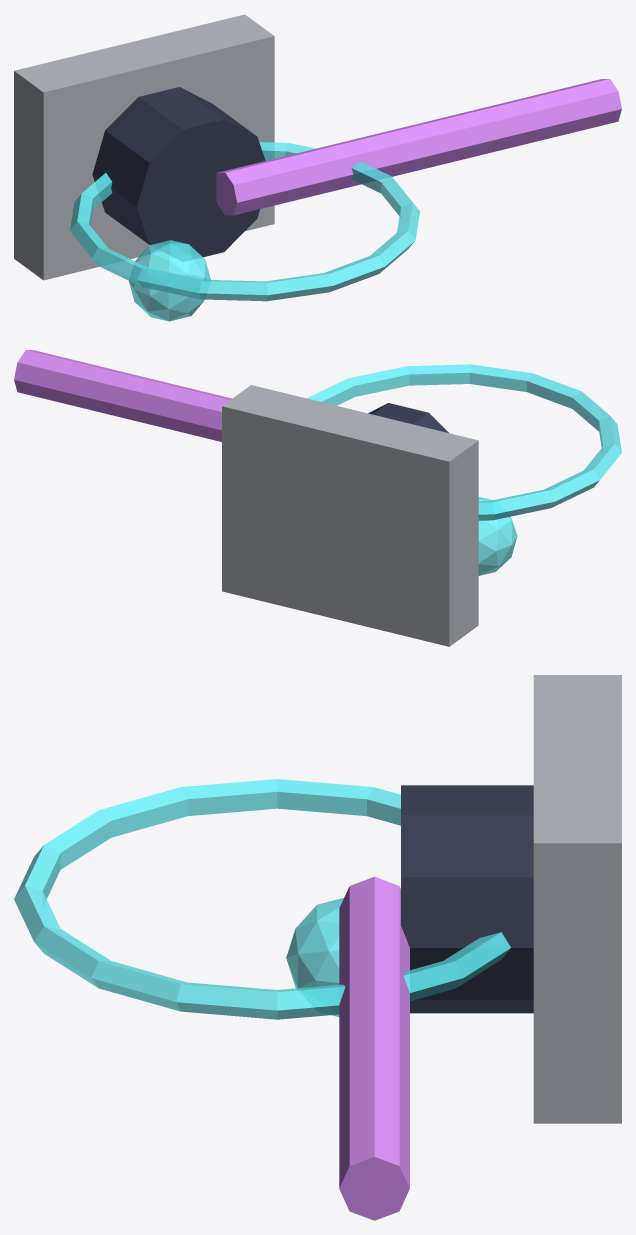
Rendered from 09_skyship_defense.glb.
3 renders of one model, top to bottom at view 1: azimuth 30°, elevation 25°; view 2: azimuth 150°, elevation 25°; view 3: azimuth 270°, elevation 25°, orthographic. The views are drawn at different scales.
Parts seen in each view (by area): view 1: weapon_mount_base, turret_pivot, cannon_barrel, shield_projector_ring, targeting_core; view 2: weapon_mount_base, shield_projector_ring, cannon_barrel, targeting_core, turret_pivot; view 3: weapon_mount_base, turret_pivot, shield_projector_ring, cannon_barrel, targeting_core.
Part boxes in pixels (bbox=[...]): weapon_mount_base: bbox=[14, 14, 274, 280]; turret_pivot: bbox=[92, 87, 265, 261]; cannon_barrel: bbox=[216, 79, 621, 215]; shield_projector_ring: bbox=[70, 142, 419, 301]; targeting_core: bbox=[129, 240, 210, 321]; weapon_mount_base: bbox=[222, 385, 478, 646]; shield_projector_ring: bbox=[307, 364, 621, 520]; cannon_barrel: bbox=[14, 350, 231, 441]; targeting_core: bbox=[478, 497, 517, 575]; turret_pivot: bbox=[368, 403, 448, 432]; weapon_mount_base: bbox=[533, 675, 621, 1123]; turret_pivot: bbox=[401, 785, 533, 1013]; shield_projector_ring: bbox=[14, 779, 510, 1019]; cannon_barrel: bbox=[339, 876, 409, 1220]; targeting_core: bbox=[286, 898, 343, 1016].
Size of the model in its own units: 2.58 by 0.876 by 1.65.
